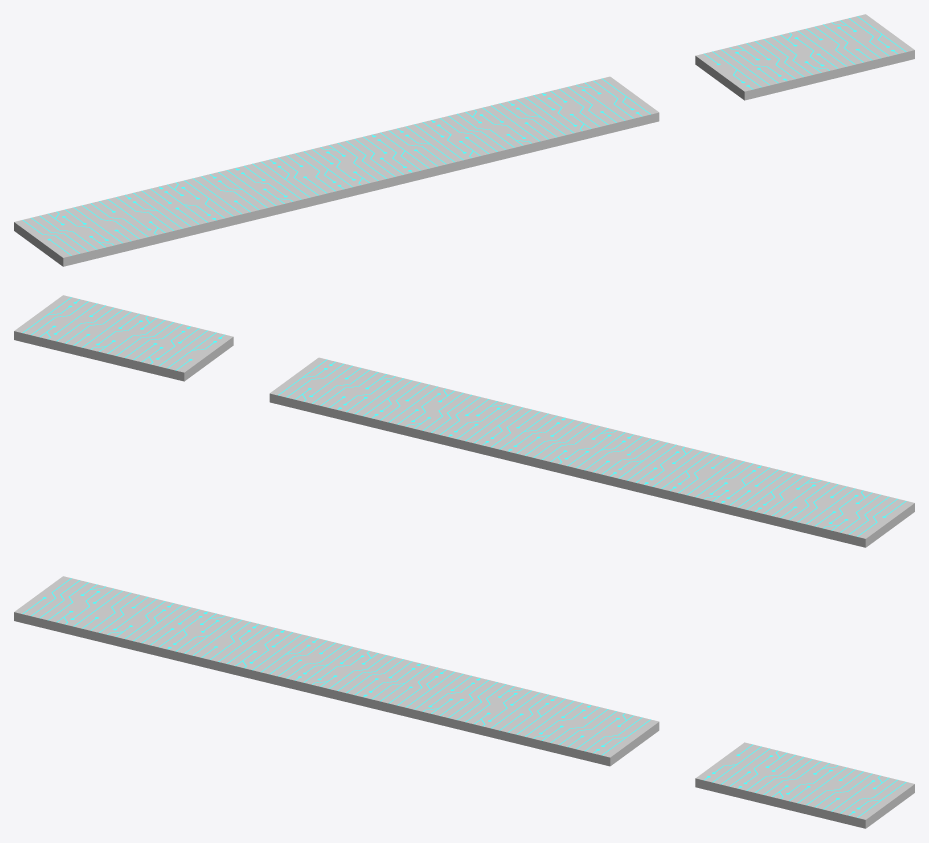
Rendered from floor_metallic5.glb.
3 views of the same model, one above another, from view 1: azimuth 30°, elevation 25°; view 2: azimuth 150°, elevation 25°; view 3: azimuth 330°, elevation 25° (orthographic).
Parts seen in each view (by area): view 1: Cube.012, Plane.035; view 2: Cube.012, Plane.035; view 3: Cube.012, Plane.035.
Boxes of the visible parts, <box> form: Cube.012: <box>14,14,914,266</box>; Plane.035: <box>22,16,906,255</box>; Cube.012: <box>14,295,914,547</box>; Plane.035: <box>22,297,906,536</box>; Cube.012: <box>14,576,914,828</box>; Plane.035: <box>22,578,906,817</box>.
Bounding box in the file's own units: 200 × 2.01 × 20.
